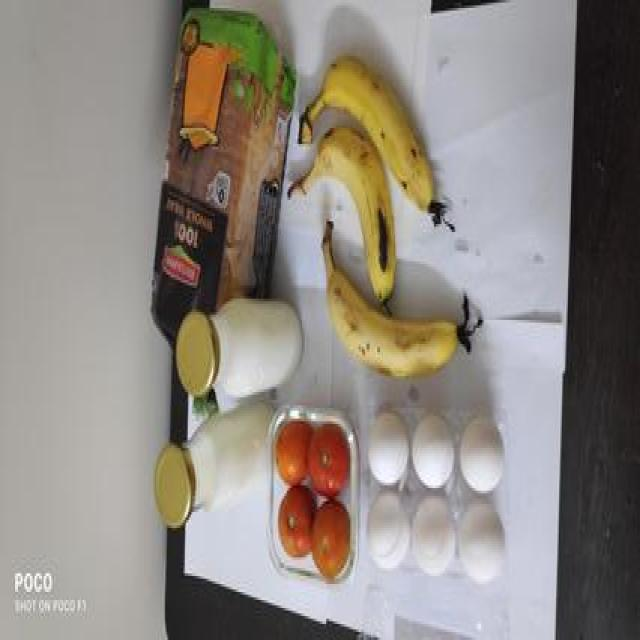Fresh_tomato: (278, 432, 354, 572)
